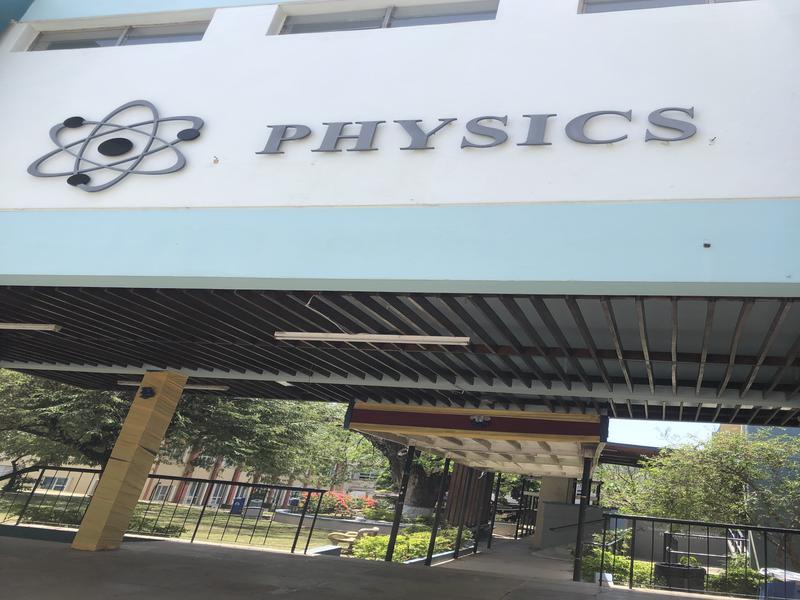18.0053657_-76.7491452_physicssign: (20, 81, 743, 194)
